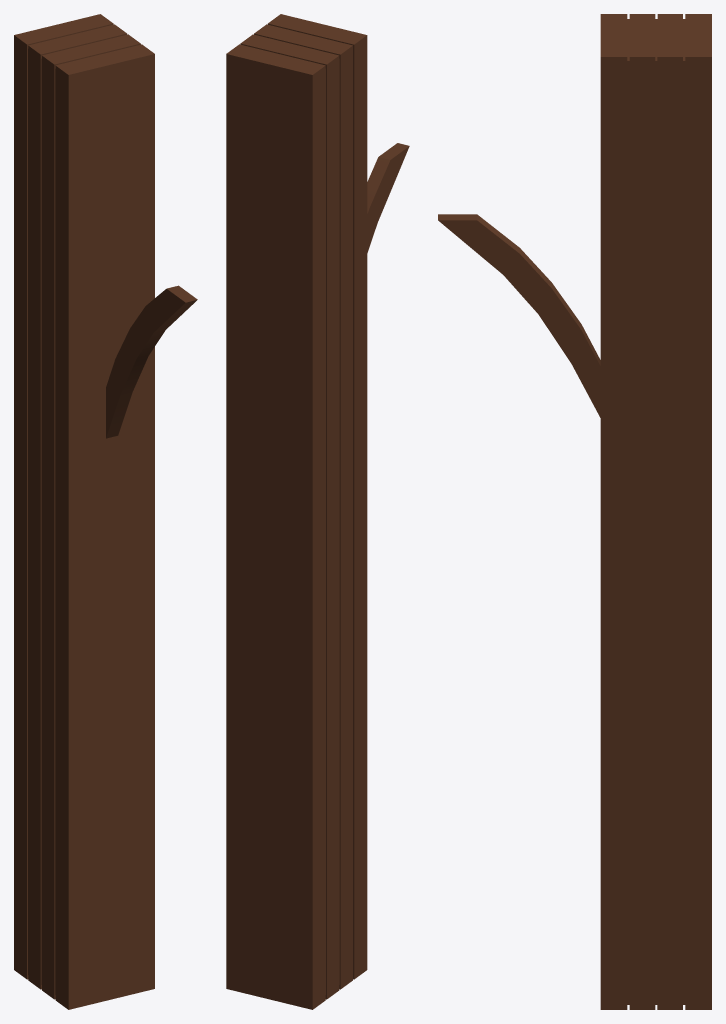
File: Colonna 1 .fbx
3 views of the same model, side by side, from view 1: azimuth 30°, elevation 25°; view 2: azimuth 150°, elevation 25°; view 3: azimuth 270°, elevation 25° (orthographic).
Parts seen in each view (by area): view 1: Colonna legno.005; view 2: Colonna legno.005; view 3: Colonna legno.005.
Part boxes in pixels (x1,y1,x2,y2): Colonna legno.005: [14, 14, 197, 1009]; Colonna legno.005: [226, 14, 409, 1009]; Colonna legno.005: [438, 14, 711, 1009].
Bounding box in the file's own units: 89.69 × 926 × 241.
